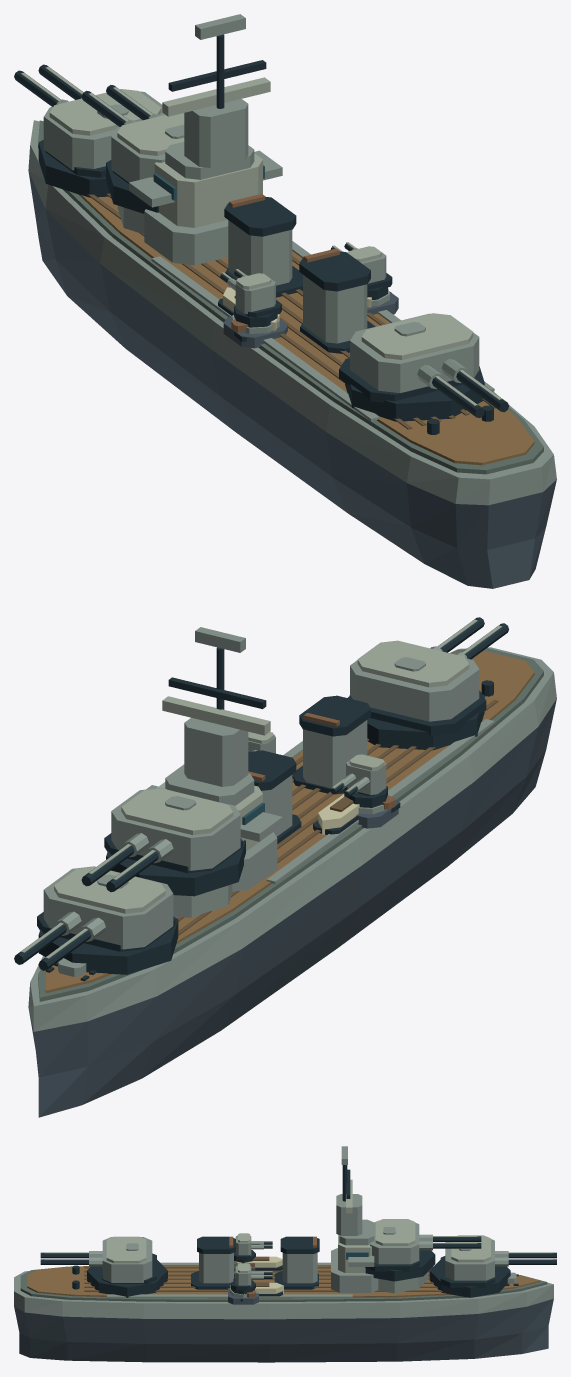
The model's file is historic-renown.glb.
3 renders of one model, top to bottom at view 1: azimuth 30°, elevation 25°; view 2: azimuth 150°, elevation 25°; view 3: azimuth 270°, elevation 25°, orthographic. The views are drawn at different scales.
Parts seen in each view (by area): view 1: historic-renown-historic-renown-geometry, historic-renown-part_bridge.021-geometry, historic-renown-turret_main_2.015-geometry, historic-renown-turret_main_0.016-geometry, historic-renown-historic_funnel_1.010-geometry, historic-renown-turret_main_1.015-geometry, historic-renown-historic_funnel_0.022-geometry, historic-renown-turret_aa_aa-port.023-geometry, historic-renown-turret_aa_aa-starboard.021-geometry, historic-renown-part_aa-port.023-geometry; view 2: historic-renown-historic-renown-geometry, historic-renown-turret_main_2.015-geometry, historic-renown-part_bridge.021-geometry, historic-renown-turret_main_1.015-geometry, historic-renown-turret_main_0.016-geometry, historic-renown-historic_funnel_1.010-geometry, historic-renown-historic_funnel_0.022-geometry, historic-renown-turret_aa_aa-port.023-geometry, historic-renown-part_aa-port.023-geometry; view 3: historic-renown-historic-renown-geometry, historic-renown-turret_main_2.015-geometry, historic-renown-turret_main_0.016-geometry, historic-renown-part_bridge.021-geometry, historic-renown-turret_main_1.015-geometry, historic-renown-historic_funnel_0.022-geometry, historic-renown-historic_funnel_1.010-geometry, historic-renown-turret_aa_aa-starboard.021-geometry, historic-renown-turret_aa_aa-port.023-geometry, historic-renown-part_aa-starboard.021-geometry.
Part boxes in pixels (bbox=[...]): historic-renown-historic-renown-geometry: bbox=[28, 120, 556, 588]; historic-renown-part_bridge.021-geometry: bbox=[129, 14, 282, 265]; historic-renown-turret_main_2.015-geometry: bbox=[339, 313, 508, 421]; historic-renown-turret_main_0.016-geometry: bbox=[14, 64, 164, 197]; historic-renown-historic_funnel_1.010-geometry: bbox=[299, 248, 375, 353]; historic-renown-turret_main_1.015-geometry: bbox=[81, 85, 184, 213]; historic-renown-historic_funnel_0.022-geometry: bbox=[224, 193, 302, 297]; historic-renown-turret_aa_aa-port.023-geometry: bbox=[220, 269, 281, 327]; historic-renown-turret_aa_aa-starboard.021-geometry: bbox=[330, 242, 392, 299]; historic-renown-part_aa-port.023-geometry: bbox=[223, 315, 287, 348]; historic-renown-historic-renown-geometry: bbox=[28, 647, 556, 1117]; historic-renown-turret_main_2.015-geometry: bbox=[348, 617, 508, 750]; historic-renown-part_bridge.021-geometry: bbox=[146, 627, 282, 891]; historic-renown-turret_main_1.015-geometry: bbox=[81, 787, 245, 896]; historic-renown-turret_main_0.016-geometry: bbox=[14, 866, 178, 974]; historic-renown-historic_funnel_1.010-geometry: bbox=[292, 695, 370, 794]; historic-renown-historic_funnel_0.022-geometry: bbox=[248, 750, 301, 843]; historic-renown-turret_aa_aa-port.023-geometry: bbox=[330, 754, 387, 807]; historic-renown-part_aa-port.023-geometry: bbox=[356, 795, 398, 828]; historic-renown-historic-renown-geometry: bbox=[14, 1256, 553, 1362]; historic-renown-turret_main_2.015-geometry: bbox=[40, 1236, 167, 1297]; historic-renown-turret_main_0.016-geometry: bbox=[429, 1235, 556, 1297]; historic-renown-part_bridge.021-geometry: bbox=[331, 1146, 378, 1292]; historic-renown-turret_main_1.015-geometry: bbox=[365, 1219, 481, 1281]; historic-renown-historic_funnel_0.022-geometry: bbox=[274, 1236, 319, 1289]; historic-renown-historic_funnel_1.010-geometry: bbox=[191, 1236, 235, 1289]; historic-renown-turret_aa_aa-starboard.021-geometry: bbox=[231, 1263, 272, 1294]; historic-renown-turret_aa_aa-port.023-geometry: bbox=[234, 1233, 272, 1263]; historic-renown-part_aa-starboard.021-geometry: bbox=[228, 1287, 258, 1304].
Size of the model in its own units: 0.9171 by 1.92 by 4.82.
